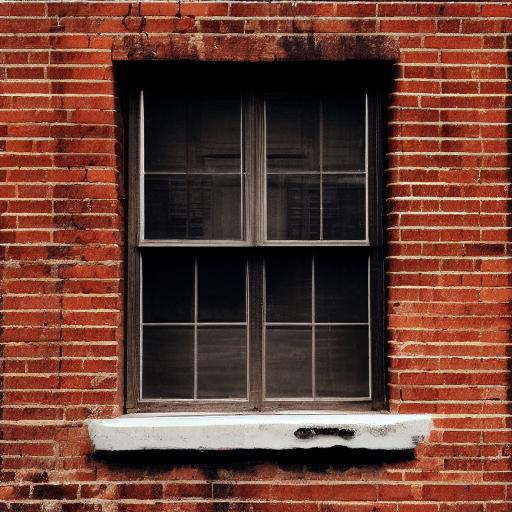Window: (87, 34, 437, 453)
